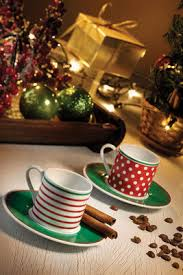kahve: (26, 162, 93, 236)
